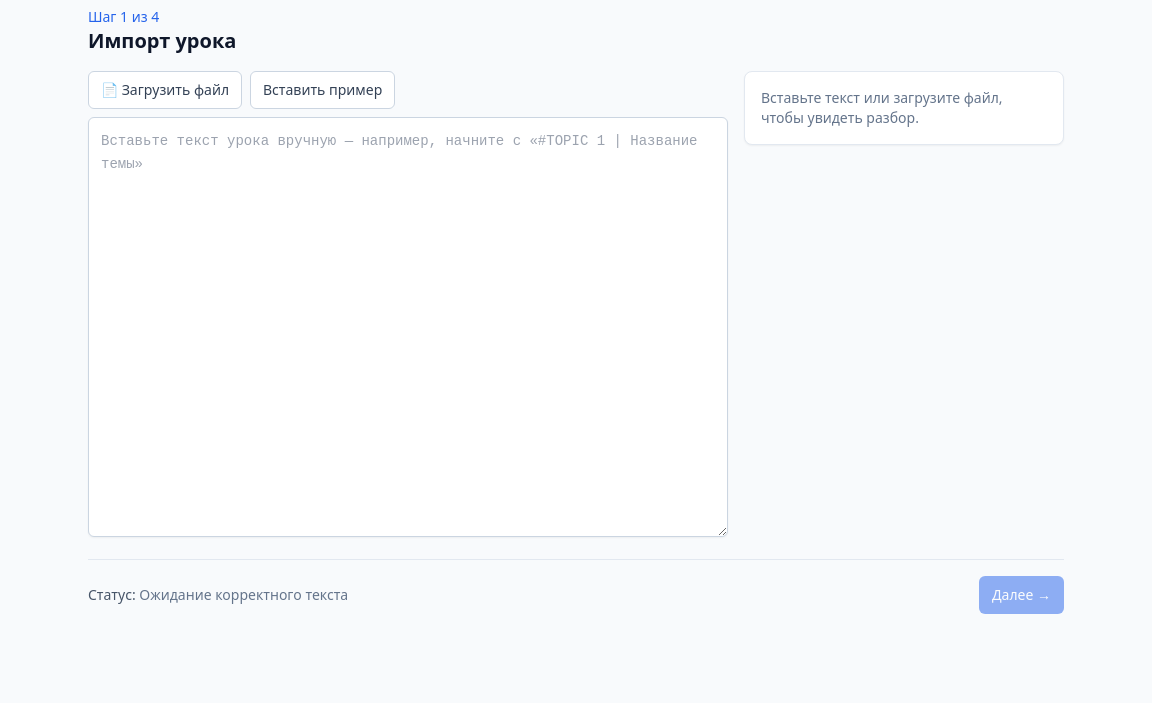
Test: ImportScreen (смоук, mockAdapter) › показывает ошибки парсинга для некорректного текста
Step 1. Type "это не похоже на формат урока" into the text box labelled "текст урока" → (408, 327), box [88,117,728,537]
(page scrolled)
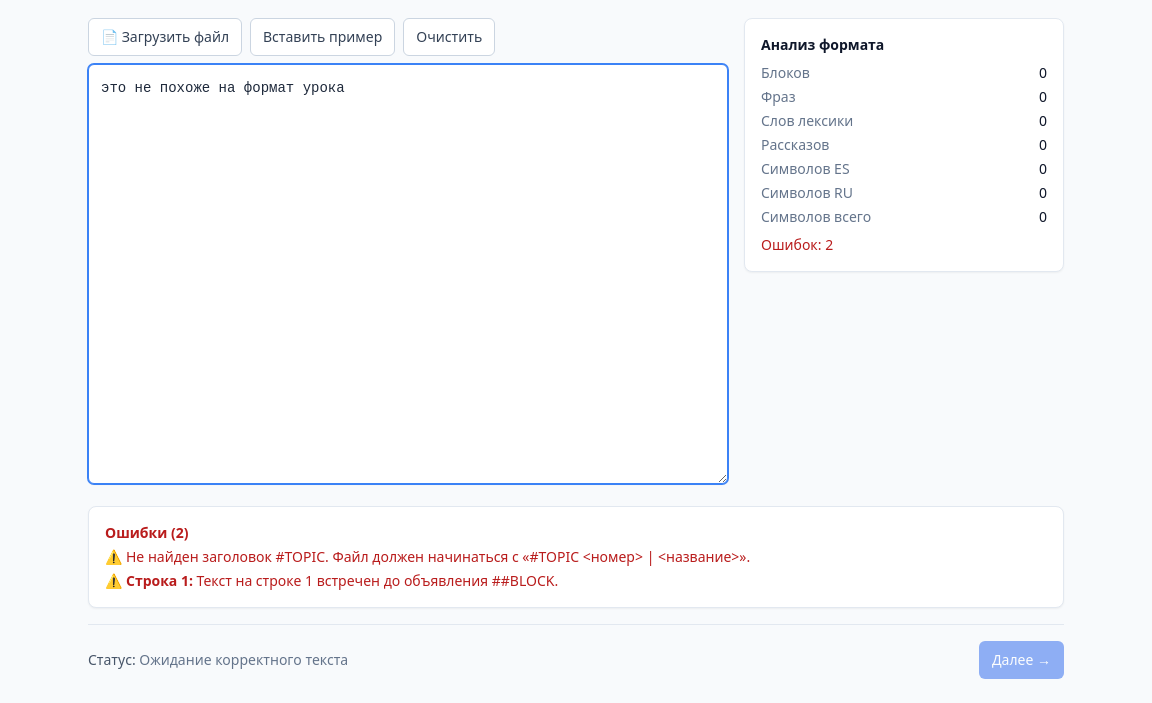
Expected: the button "Далее →" is disabled, [979,641,1064,679]
Result: the list item "Не найден заголовок #TOPIC" is shown at [126,547,750,566]
